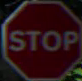Stop: (6, 4, 80, 75)
